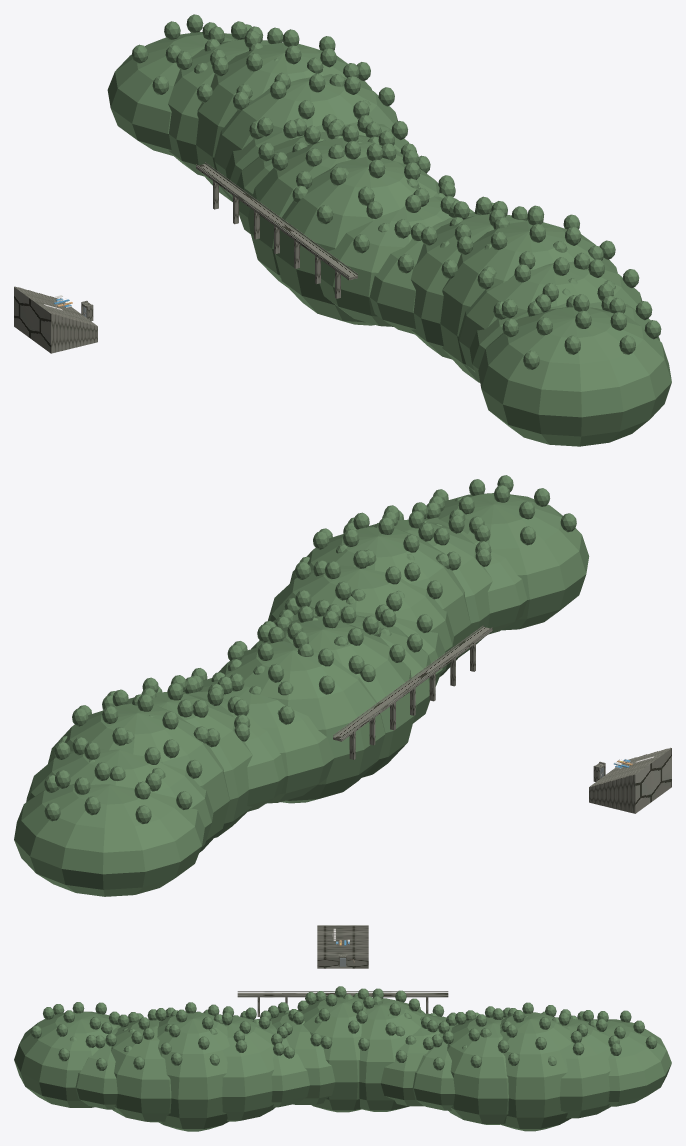
3 renders of one model, top to bottom at view 1: azimuth 30°, elevation 25°; view 2: azimuth 150°, elevation 25°; view 3: azimuth 270°, elevation 25°, orthographic. The views are drawn at different scales.
Parts seen in each view (by area): view 1: Sphere, slope-0; view 2: Sphere, slope-0; view 3: Sphere, slope-0.
Boxes of the visible parts, box(x1,y1,x2,y2) form: Sphere: box(107, 14, 671, 446); slope-0: box(14, 162, 357, 353); Sphere: box(14, 475, 589, 896); slope-0: box(333, 625, 671, 813); Sphere: box(14, 986, 671, 1131); slope-0: box(237, 925, 448, 1016).
Size of the model in its own units: 321 by 108 by 562.
3 materials, 3 textured.
